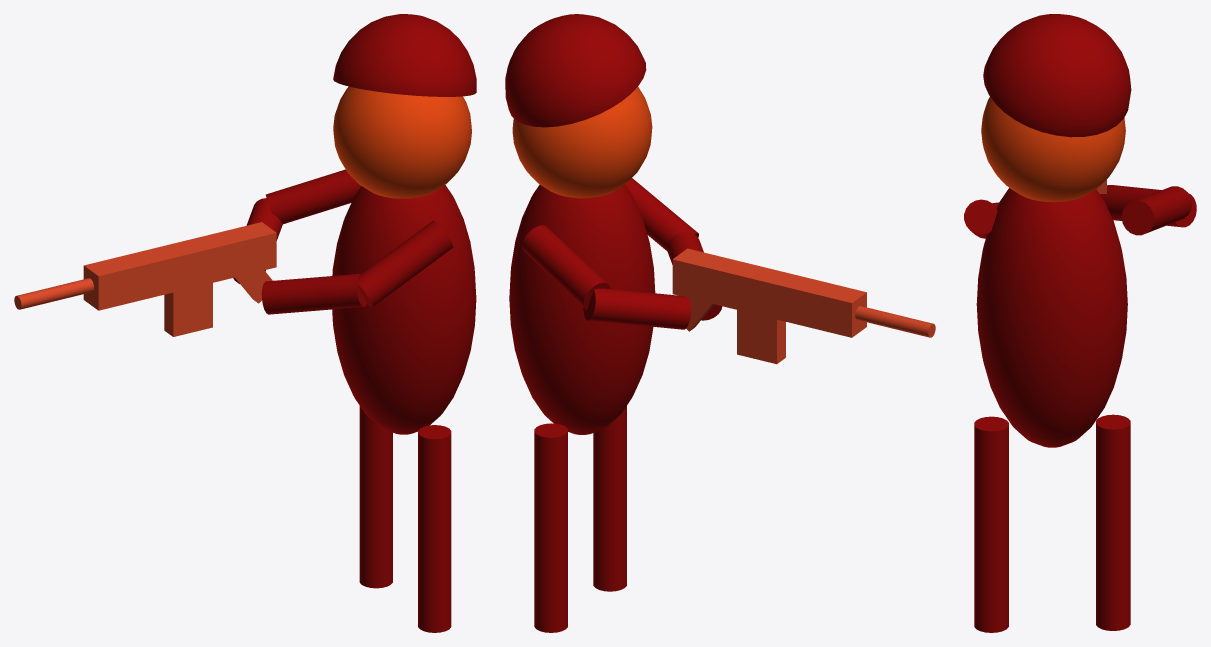
File: EnemyInfantry.fbx
3 views of the same model, side by side, from view 1: azimuth 30°, elevation 25°; view 2: azimuth 150°, elevation 25°; view 3: azimuth 270°, elevation 25° (orthographic). The views are drawn at different scales.
Visible parts, largest first — view 1: Sphere001, Sphere002, Box001, Sphere003, Cylinder002, Cylinder001, Cylinder003, Cylinder004, Cylinder005, Box002, Cylinder007, Cylinder006; view 2: Sphere001, Sphere003, Sphere002, Box001, Cylinder001, Cylinder002, Cylinder006, Cylinder005, Box002, Cylinder003, Cylinder007, Cylinder004; view 3: Sphere001, Sphere003, Sphere002, Cylinder002, Cylinder001, Cylinder005, Cylinder006, Cylinder003.
Boxes of the visible parts, bbox=[...] form: Sphere001: bbox=[332, 185, 476, 434]; Sphere002: bbox=[333, 86, 471, 198]; Box001: bbox=[83, 222, 276, 310]; Sphere003: bbox=[333, 14, 476, 96]; Cylinder002: bbox=[418, 425, 451, 632]; Cylinder001: bbox=[359, 406, 392, 588]; Cylinder003: bbox=[355, 220, 453, 307]; Cylinder004: bbox=[261, 273, 366, 314]; Cylinder005: bbox=[266, 169, 361, 224]; Box002: bbox=[164, 283, 212, 336]; Cylinder007: bbox=[14, 278, 93, 309]; Cylinder006: bbox=[233, 198, 282, 283]; Sphere001: bbox=[509, 184, 655, 434]; Sphere003: bbox=[505, 14, 646, 127]; Sphere002: bbox=[512, 87, 652, 198]; Box001: bbox=[672, 248, 866, 337]; Cylinder001: bbox=[534, 423, 567, 632]; Cylinder002: bbox=[593, 406, 626, 591]; Cylinder006: bbox=[583, 288, 691, 329]; Cylinder005: bbox=[522, 225, 610, 309]; Box002: bbox=[737, 310, 785, 364]; Cylinder003: bbox=[625, 178, 698, 251]; Cylinder007: bbox=[855, 306, 935, 337]; Cylinder004: bbox=[667, 232, 722, 320]; Sphere001: bbox=[976, 188, 1127, 447]; Sphere003: bbox=[983, 14, 1131, 137]; Sphere002: bbox=[981, 97, 1125, 202]; Cylinder002: bbox=[974, 416, 1008, 632]; Cylinder001: bbox=[1096, 414, 1130, 630]; Cylinder005: bbox=[1121, 186, 1191, 235]; Cylinder006: bbox=[1100, 185, 1196, 227]; Cylinder003: bbox=[964, 199, 997, 238].
Size of the model in its own units: 52.43 by 67.51 by 23.52.
